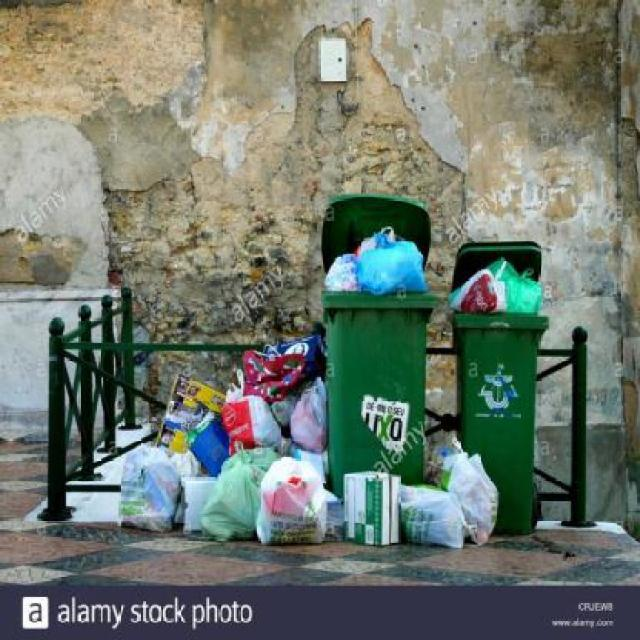garbage: (114, 343, 335, 539), (336, 437, 502, 548), (314, 225, 421, 300), (443, 248, 539, 317)
